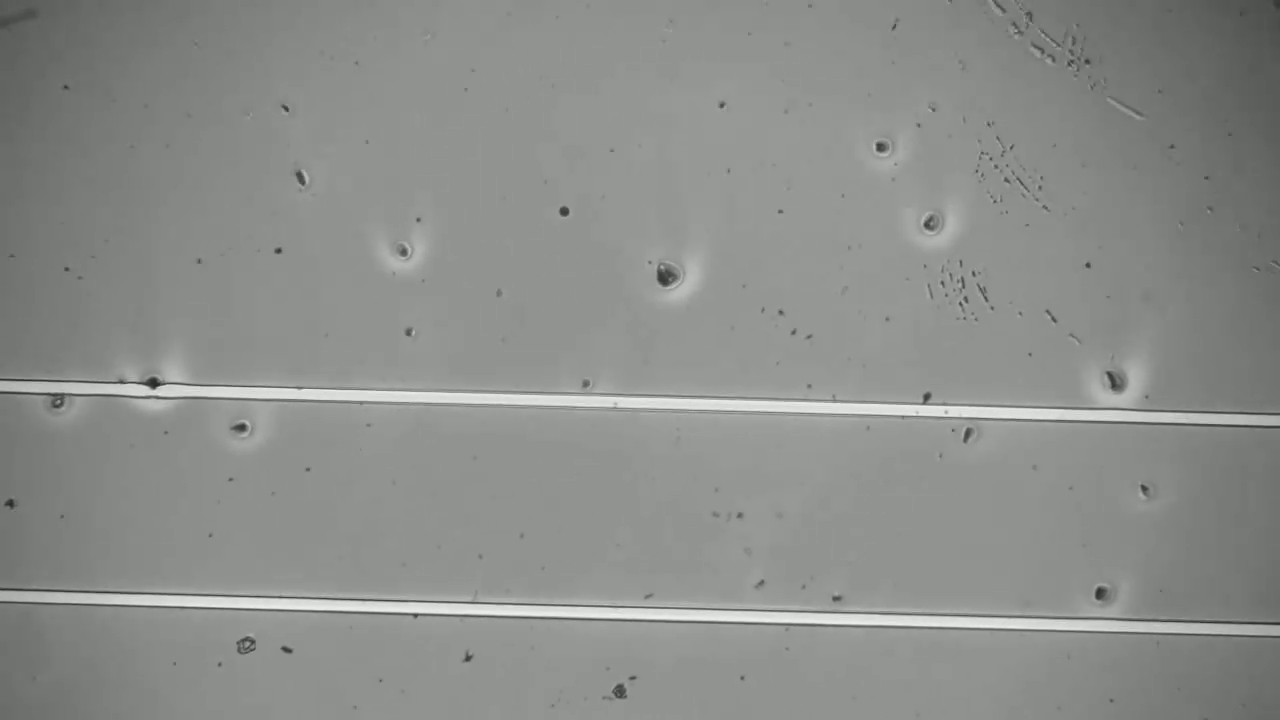stains_enbedded: (131, 364, 172, 408)
